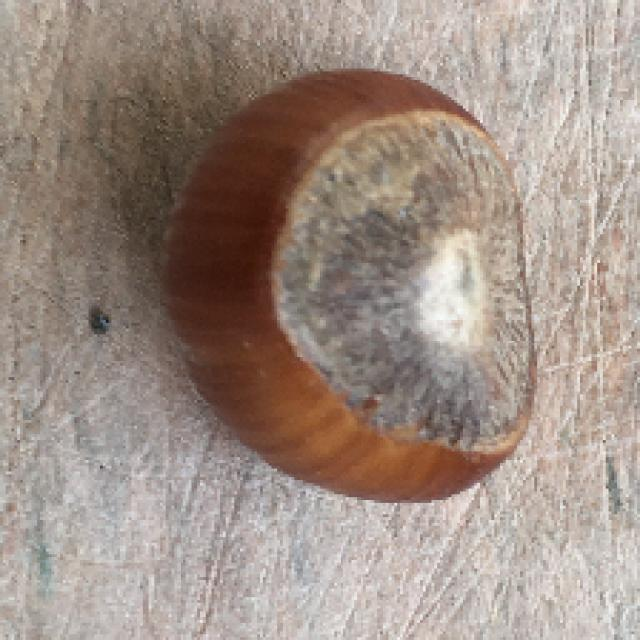damagedHazelnut: (157, 58, 546, 512)
